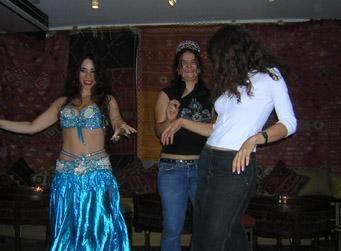head: (174, 49, 205, 83), (73, 55, 103, 90)
person: (1, 52, 137, 251), (190, 21, 298, 251), (153, 43, 213, 248)
